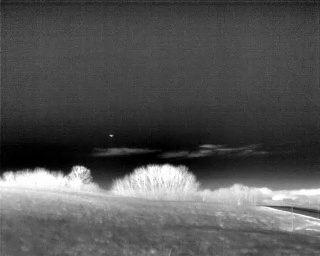AIRPLANE: (108, 132, 115, 139)
